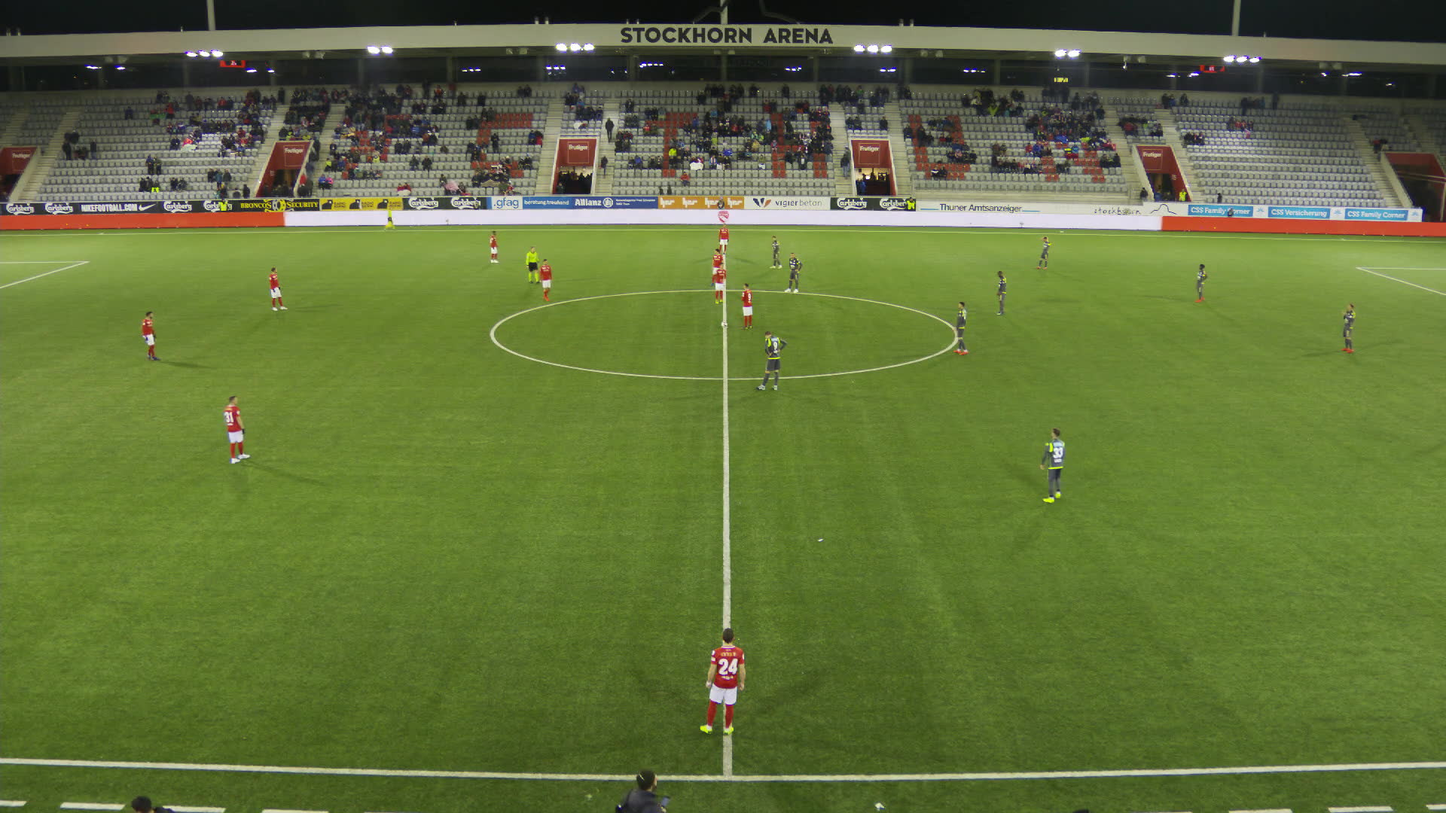ball: (720, 321, 728, 327)
player: (700, 626, 747, 733), (757, 330, 787, 391), (224, 394, 249, 462), (1042, 428, 1065, 501), (140, 310, 159, 361), (268, 266, 287, 309), (952, 300, 967, 354), (1342, 303, 1356, 353), (785, 252, 802, 293), (1192, 264, 1207, 302), (740, 282, 752, 329), (712, 263, 726, 303), (540, 259, 553, 300), (996, 269, 1008, 313), (1036, 235, 1051, 269), (768, 234, 782, 269), (711, 248, 725, 282), (718, 223, 730, 252), (490, 230, 496, 262)
referee: (526, 244, 540, 282), (384, 212, 395, 230)
